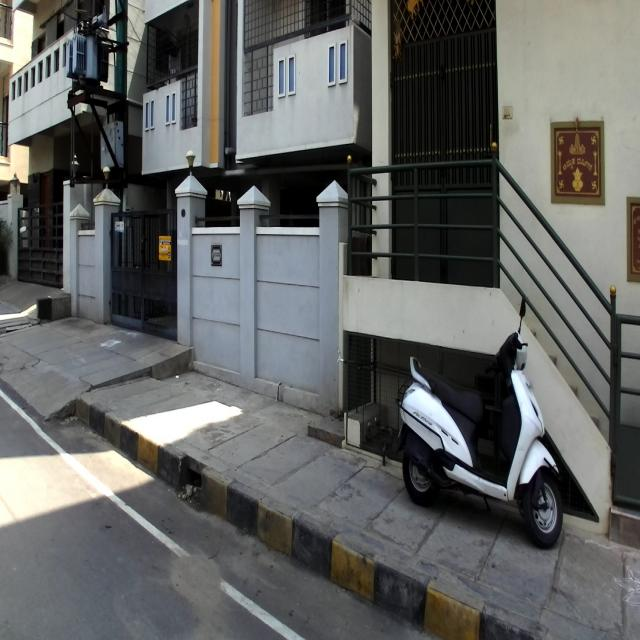scooter: (392, 294, 568, 552)
